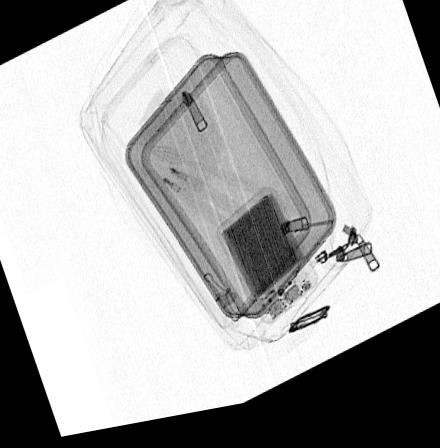Powerbank: (215, 194, 319, 335)
